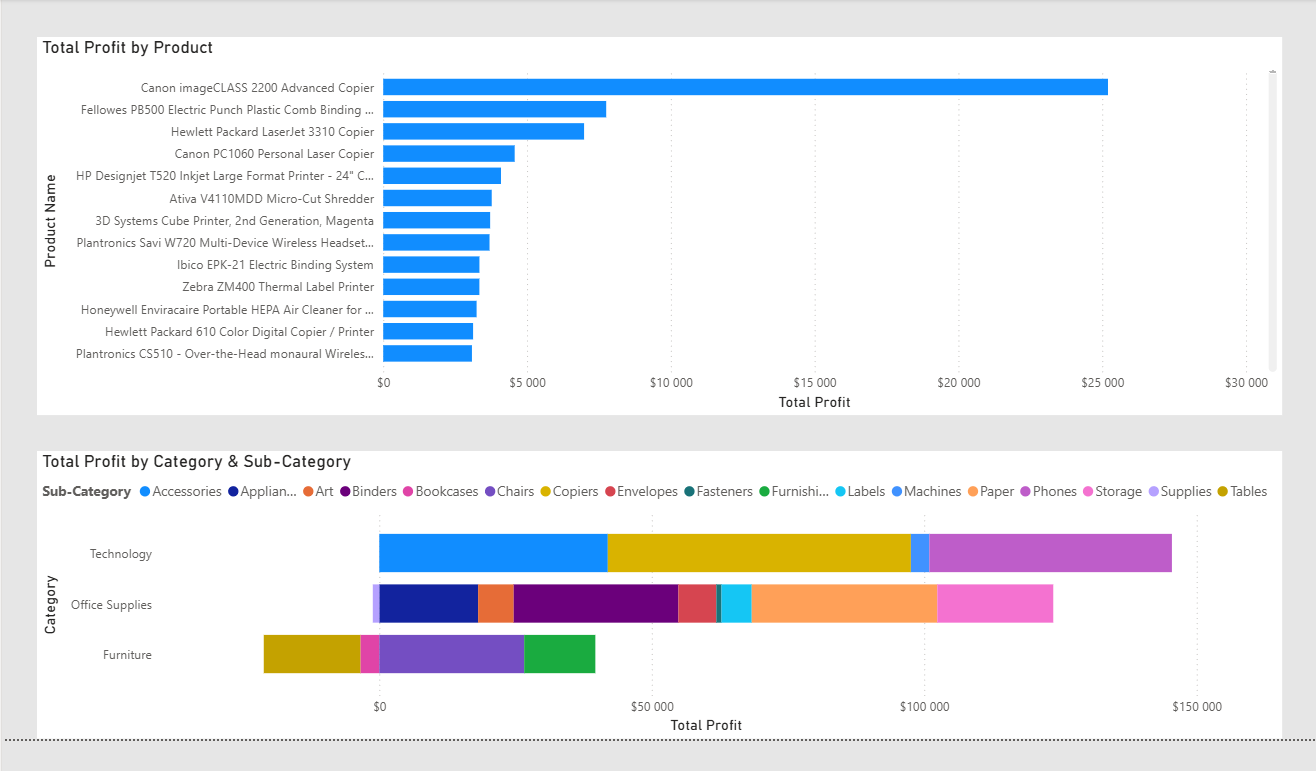

This screenshot's page, from the dashboard's own definition file:
{"tool":"powerbi","page":{"name":"Profits","canvas":[1280,720],"ordinal":4},"visuals":[{"type":"barChart","title":"Total Profit by Product","fields":{"Y":["FactOrders.Total Profit"],"Category":["DimProduct.Product Name"]},"box":[34.1,37,1211.9,367.9],"z":0},{"type":"barChart","title":"Total Profit by Category & Sub-Category","fields":{"Y":["FactOrders.Total Profit"],"Category":["DimCategory.Category"],"Series":["DimCategory.Sub-Category"]},"box":[34.1,440,1211.9,280.3],"z":1000}]}

Visuals, with their boxes on the page's 1280x720 design canvas (x1, y1, x2, y2). These are canvas units, not pixel positions in the 1316x771 screenshot, which may show the page scaled, cropped or inside an application window:
"Total Profit by Product" barChart: x1=34, y1=37, x2=1246, y2=405
"Total Profit by Category & Sub-Category" barChart: x1=34, y1=440, x2=1246, y2=720
